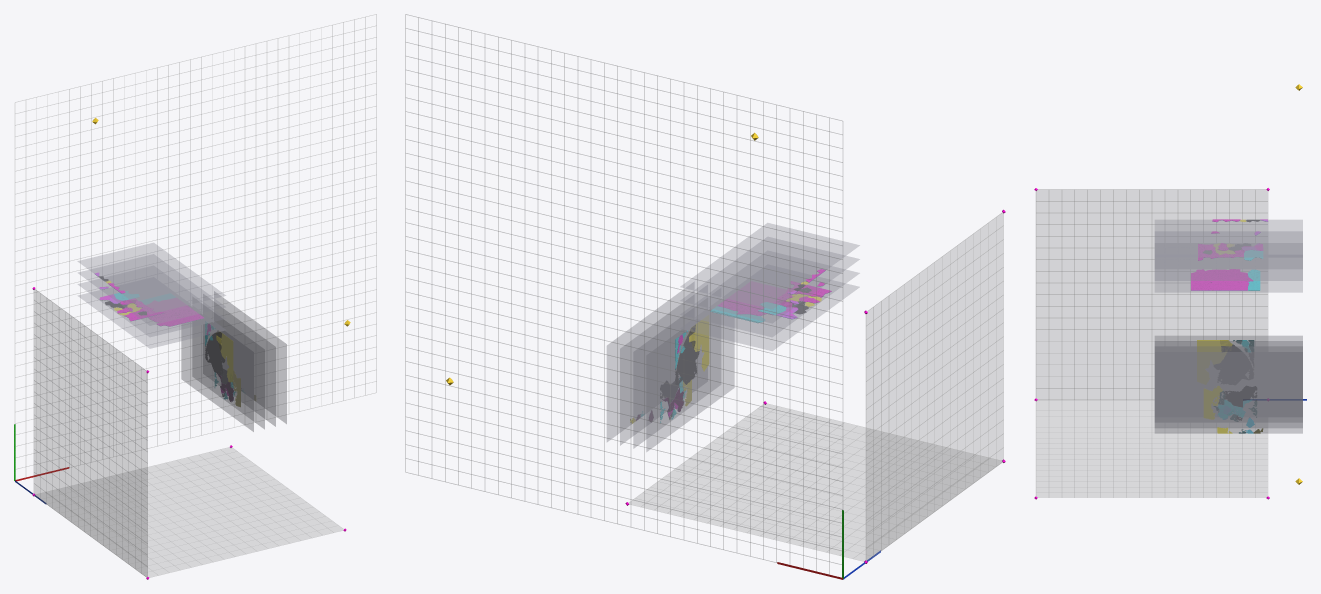
The model's file is shards.obj.
3 renders of one model, left to right at view 1: azimuth 30°, elevation 25°; view 2: azimuth 150°, elevation 25°; view 3: azimuth 270°, elevation 25°, orthographic. The views are drawn at different scales.
Visible parts, largest first — view 1: wall_A, wall_B, grid_floor, panel_B3, panel_B2, panel_A0, panel_A1, panel_A3, panel_A2, panel_B1, panel_B0, M (+5 smaller); view 2: wall_A, wall_B, grid_floor, panel_B3, panel_A0, panel_B2, panel_A1, panel_A3, panel_A2, panel_B0, panel_B1, grid_wallA (+5 smaller); view 3: wall_A, wall_B, panel_A2, panel_A3, panel_B2, panel_B3, grid_wallA, panel_B1, panel_B0, K, M, panel_A1 (+4 smaller).
Part boxes in pixels (x1,y1,x2,y2): wall_A: (34,290,147,576); wall_B: (36,447,343,577); grid_floor: (15,14,376,469); panel_B3: (77,243,225,313); panel_B2: (78,254,225,325); panel_A0: (181,322,253,431); panel_A1: (192,311,264,429); panel_A3: (214,291,286,423); panel_A2: (203,299,275,426); panel_B1: (78,279,225,336); panel_B0: (78,290,225,348); M: (94,272,233,400); wall_A: (866,213,1003,560); wall_B: (629,404,1001,560); grid_floor: (405,14,842,574); panel_B3: (680,223,859,309); panel_A0: (646,319,734,451); panel_B2: (680,237,859,323); panel_A1: (633,305,720,448); panel_A3: (607,282,694,441); panel_A2: (620,292,707,445); panel_B0: (680,280,859,350); panel_B1: (680,266,859,336); grid_wallA: (866,212,1003,560); wall_A: (1036,190,1267,399); wall_B: (1036,400,1267,497); panel_A2: (1155,346,1302,427); panel_A3: (1155,352,1302,433); panel_B2: (1155,231,1302,268); panel_B3: (1155,220,1302,257); grid_wallA: (1036,189,1267,399); panel_B1: (1155,257,1302,280); panel_B0: (1155,269,1302,292); K: (1191,219,1263,433); M: (1191,219,1268,432); panel_A1: (1155,341,1302,351).
Size of the model in its own units: 3318 by 3318 by 2115.
